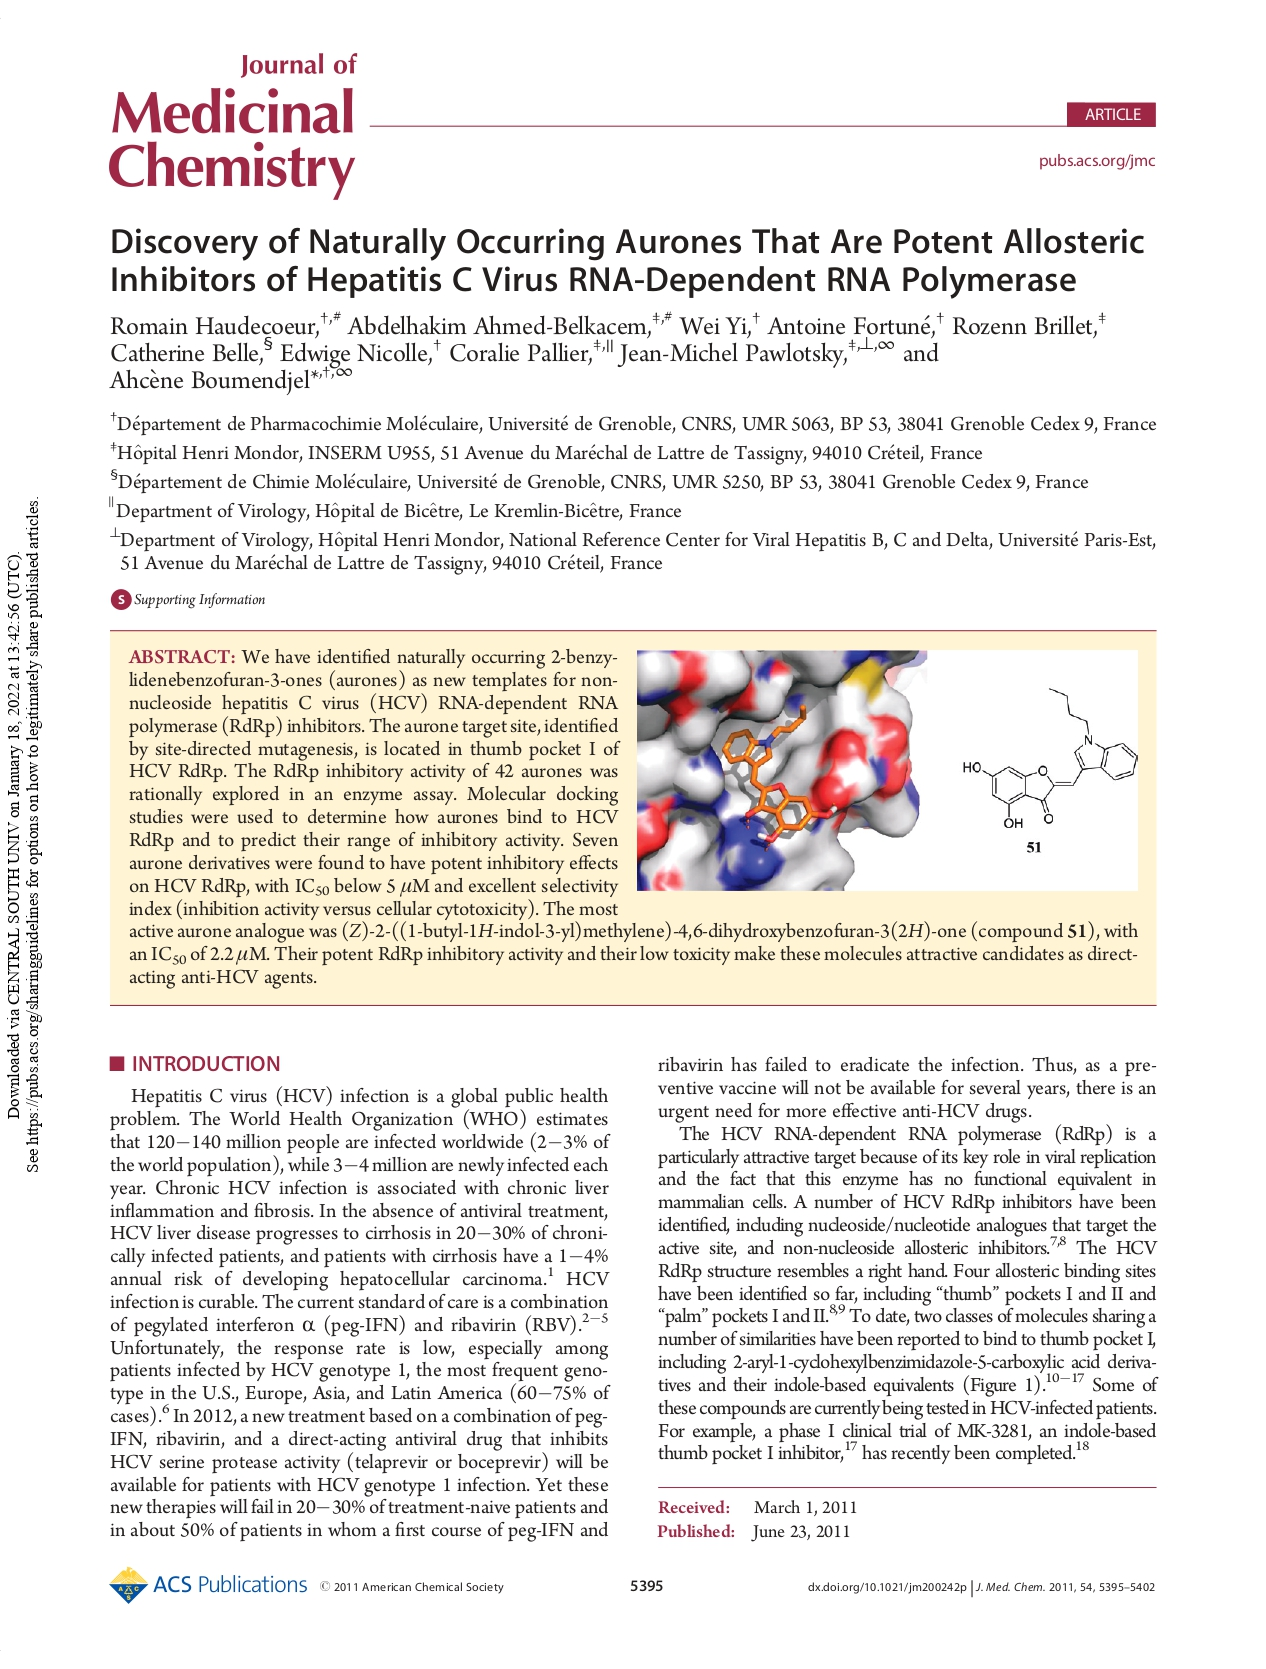exist_molecular: (959, 684, 1138, 833)
